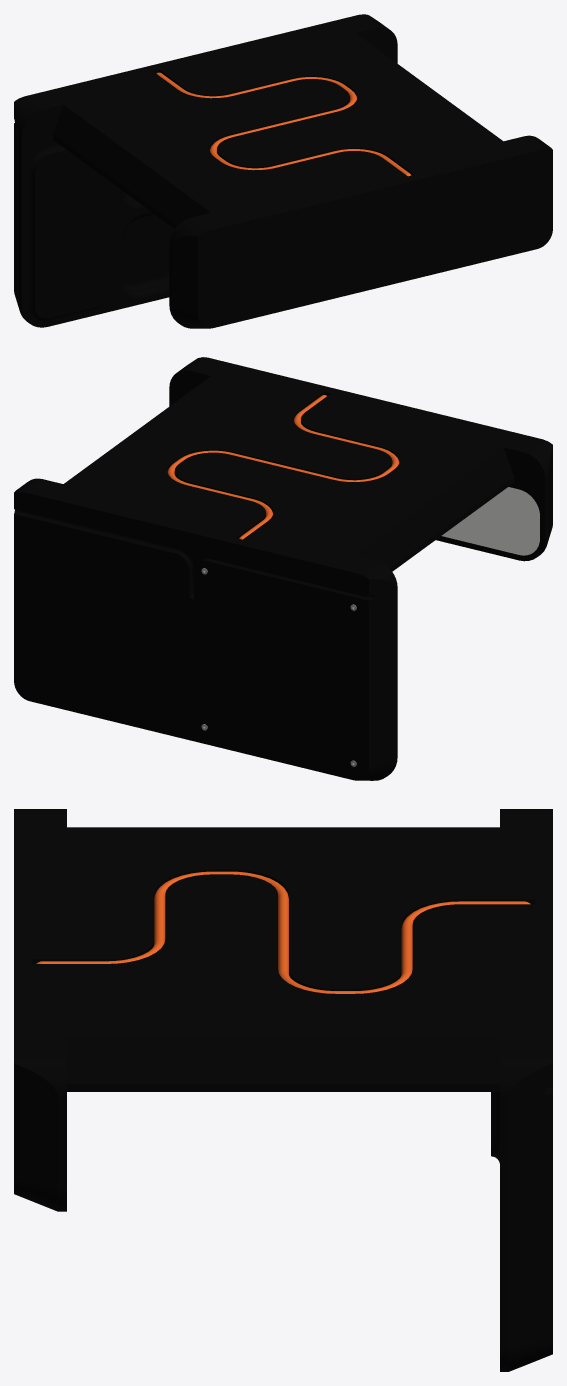
The model's file is SHS Lampe V2 v13.fbx.
3 renders of one model, top to bottom at view 1: azimuth 30°, elevation 25°; view 2: azimuth 150°, elevation 25°; view 3: azimuth 270°, elevation 25°, orthographic. The views are drawn at different scales.
Visible parts, largest first — view 1: Back, Top, Bottom, Wire; view 2: Back, Bottom, Bottom lid, Top, Acrilyc plate, Wire; view 3: Back, Bottom, Top, Wire.
Part boxes in pixels (x1=…): Back: x1=52, y1=24, x2=515, y2=228; Top: x1=169, y1=135, x2=552, y2=328; Bottom: x1=14, y1=14, x2=397, y2=327; Wire: x1=156, y1=72, x2=411, y2=176; Back: x1=52, y1=367, x2=515, y2=571; Bottom: x1=14, y1=478, x2=397, y2=780; Bottom lid: x1=194, y1=558, x2=365, y2=774; Top: x1=169, y1=357, x2=552, y2=561; Acrilyc plate: x1=441, y1=487, x2=539, y2=555; Wire: x1=167, y1=395, x2=399, y2=539; Back: x1=31, y1=827, x2=535, y2=1091; Bottom: x1=491, y1=809, x2=552, y2=1371; Top: x1=14, y1=809, x2=66, y2=1211; Wire: x1=36, y1=871, x2=530, y2=993.
Size of the model in its own units: 360 by 200 by 305.
